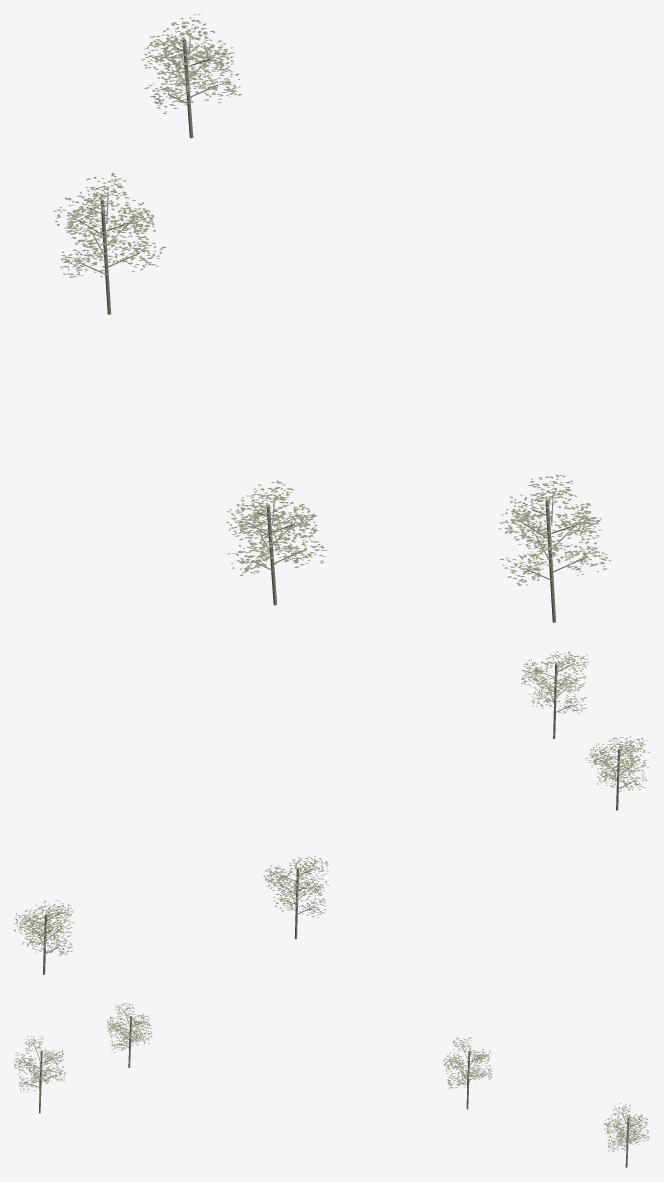
Rendered from AE_ColonisingTrees_2.fbx.
3 renders of one model, top to bottom at view 1: azimuth 30°, elevation 25°; view 2: azimuth 150°, elevation 25°; view 3: azimuth 270°, elevation 25°, orthographic. The views are drawn at different scales.
Visible parts, largest first — view 1: AE_ColonisingTrees_2_LOD0; view 2: AE_ColonisingTrees_2_LOD0; view 3: AE_ColonisingTrees_2_LOD0.
Boxes of the visible parts, <box> form: AE_ColonisingTrees_2_LOD0: <box>53,14,610,622</box>; AE_ColonisingTrees_2_LOD0: <box>14,651,649,974</box>; AE_ColonisingTrees_2_LOD0: <box>14,1003,649,1167</box>.
Size of what is drawn, in the model's own units: 2863 by 757 by 6394.
